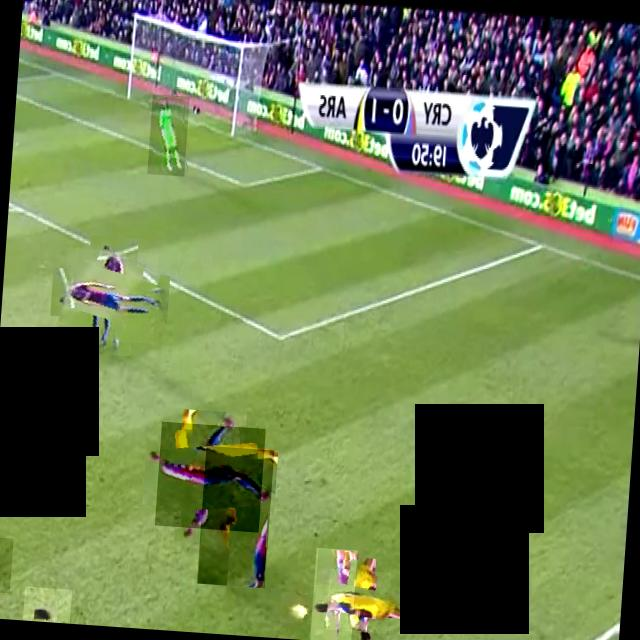ball: (278, 590, 312, 623)
goalkeeper: (146, 93, 188, 175)
soccer-player: (153, 420, 264, 531), (195, 444, 272, 586), (61, 245, 158, 342), (309, 546, 356, 640), (324, 568, 390, 632), (21, 585, 70, 623), (0, 535, 12, 592)
